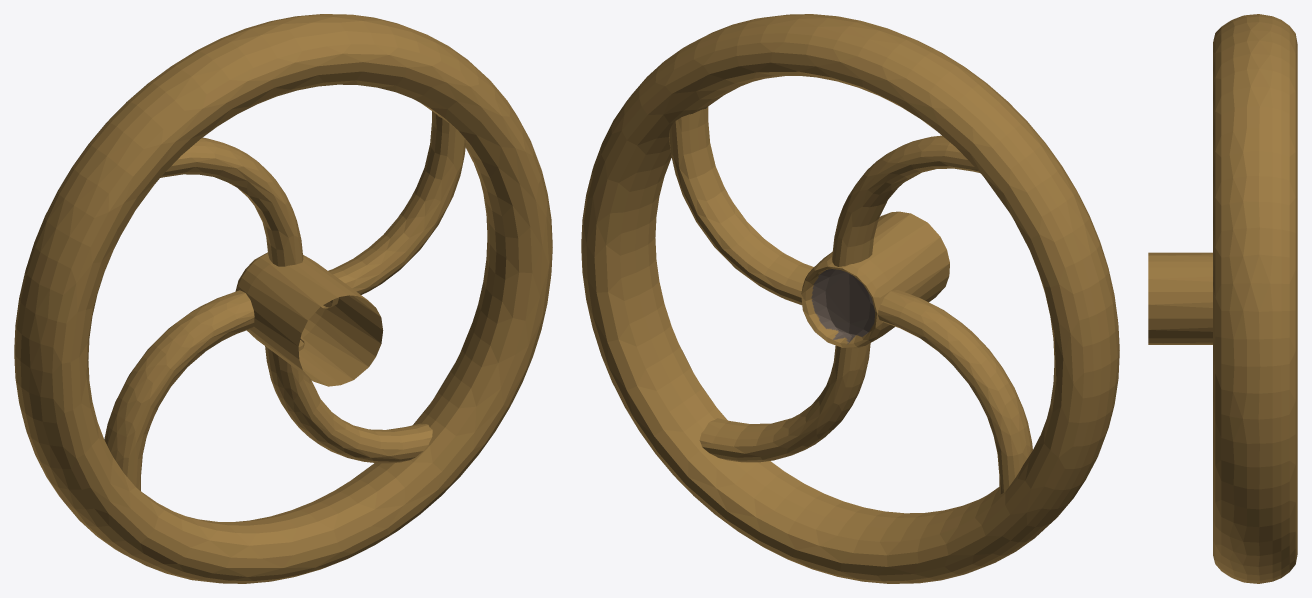
File: Valvula.fbx
3 views of the same model, side by side, from view 1: azimuth 30°, elevation 25°; view 2: azimuth 150°, elevation 25°; view 3: azimuth 270°, elevation 25° (orthographic). The views are drawn at different scales.
Visible parts, largest first — view 1: Valvula; view 2: Valvula; view 3: Valvula.
Boxes of the visible parts, x1,y1,x2,y2 form: Valvula: (14, 14, 552, 583); Valvula: (581, 14, 1119, 583); Valvula: (1148, 14, 1297, 583).
Bounding box in the file's own units: 208 × 208 × 54.41.
